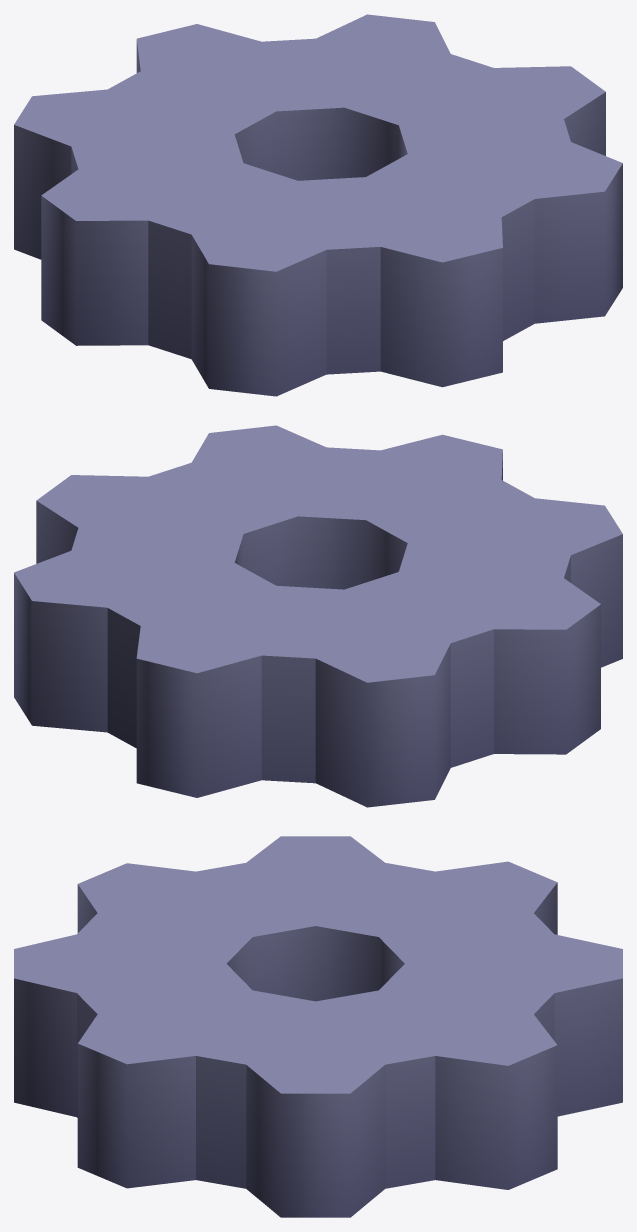
The model's file is kenney-factory-cog-d.glb.
3 renders of one model, top to bottom at view 1: azimuth 30°, elevation 25°; view 2: azimuth 150°, elevation 25°; view 3: azimuth 270°, elevation 25°, orthographic.
Parts seen in each view (by area): view 1: cog-d; view 2: cog-d; view 3: cog-d.
Part boxes in pixels (x1,y1,x2,y2): cog-d: [14, 14, 622, 396]; cog-d: [14, 425, 622, 807]; cog-d: [14, 836, 622, 1217].
Bounding box in the file's own units: 1.5 × 0.3375 × 1.5.
Materials: 1 (1 with a texture image).
